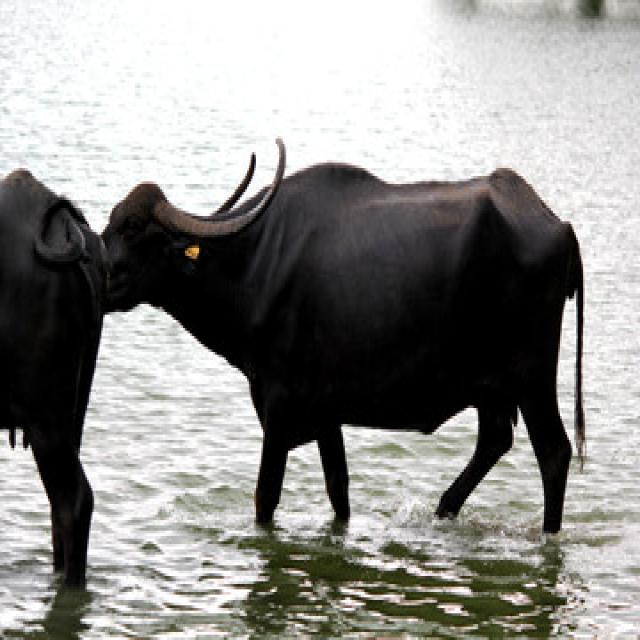Buffalo: (98, 136, 602, 539)
